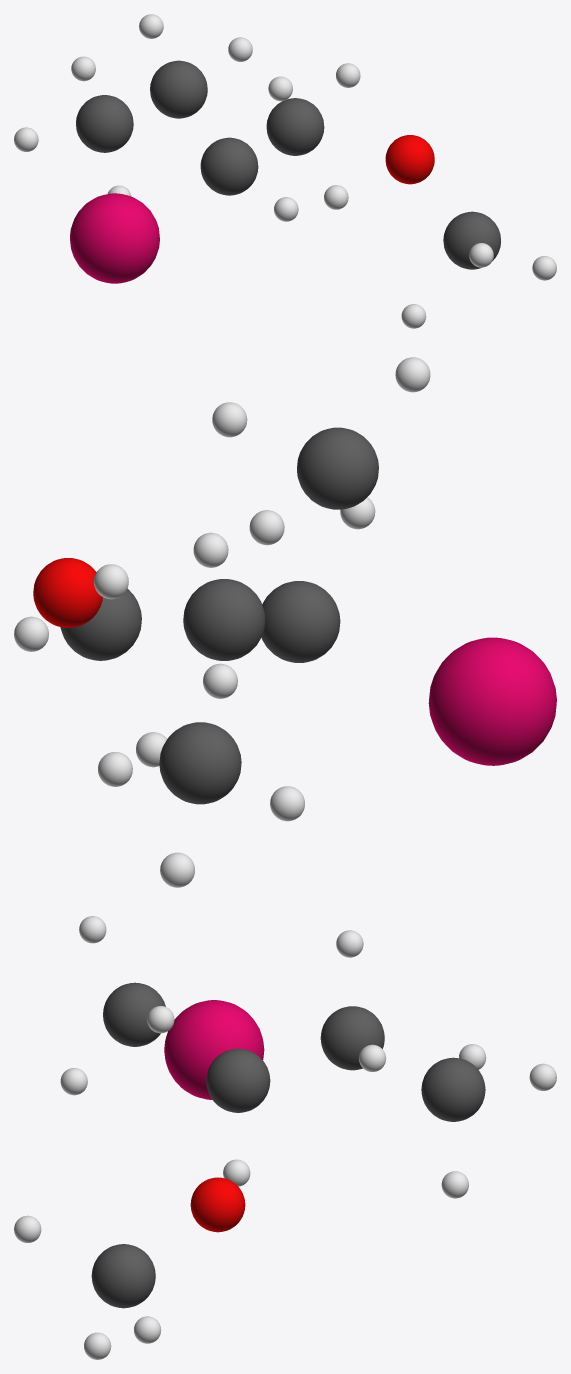
File: 2-Bromobutane_E2_Butene.fbx
3 views of the same model, one above another, from view 1: azimuth 30°, elevation 25°; view 2: azimuth 150°, elevation 25°; view 3: azimuth 270°, elevation 25° (orthographic). The views are drawn at different scales.
Visible parts, largest first — view 1: Br07, C13, C01, C16, C05, C09, O08, H17, H02, H03, H06, H10 (+6 smaller); view 2: Br07, C16, C01, C13, C05, O08, C09, H02, H11, H14, H18, H03 (+7 smaller); view 3: Br07, C16, C09, C05, C13, C01, O08, H02, H03, H04, H12, H14 (+6 smaller).
Boxes of the visible parts, <box> form: Br07: <box>70,193,159,283</box>; C13: <box>150,60,207,118</box>; C01: <box>266,98,324,155</box>; C16: <box>76,95,133,152</box>; C05: <box>200,137,258,195</box>; C09: <box>443,211,500,269</box>; O08: <box>385,135,434,184</box>; H17: <box>71,56,95,81</box>; H02: <box>268,76,292,101</box>; H03: <box>336,63,360,87</box>; H06: <box>274,197,298,221</box>; H10: <box>532,256,556,280</box>; Br07: <box>428,637,556,765</box>; C16: <box>159,722,241,804</box>; C01: <box>297,427,378,509</box>; C13: <box>183,579,265,660</box>; C05: <box>261,581,340,662</box>; O08: <box>33,558,102,627</box>; C09: <box>60,588,141,660</box>; H02: <box>395,357,430,392</box>; H11: <box>193,532,228,567</box>; H14: <box>249,510,284,545</box>; H18: <box>160,852,194,887</box>; H03: <box>212,402,247,437</box>; Br07: <box>164,1000,264,1099</box>; C16: <box>421,1057,485,1121</box>; C09: <box>91,1244,155,1308</box>; C05: <box>206,1048,270,1112</box>; C13: <box>320,1006,384,1070</box>; C01: <box>103,982,165,1046</box>; O08: <box>190,1177,245,1232</box>; H02: <box>79,916,106,943</box>; H03: <box>147,1006,174,1033</box>; H04: <box>60,1068,87,1095</box>; H12: <box>134,1316,161,1343</box>; H14: <box>336,930,363,957</box>.
Size of the model in its own units: 638 by 438 by 634.
